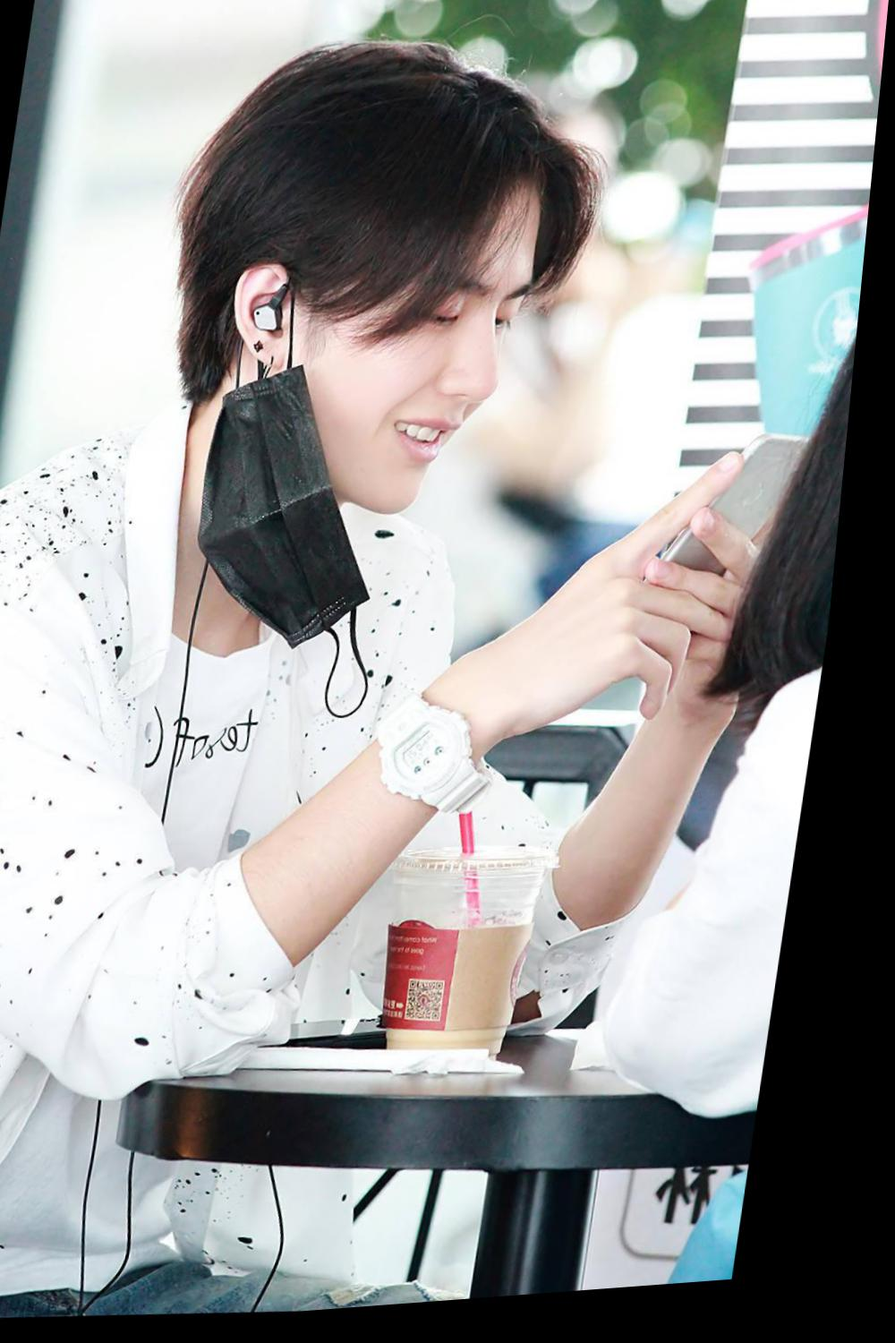WRONG: (283, 229, 547, 539)
